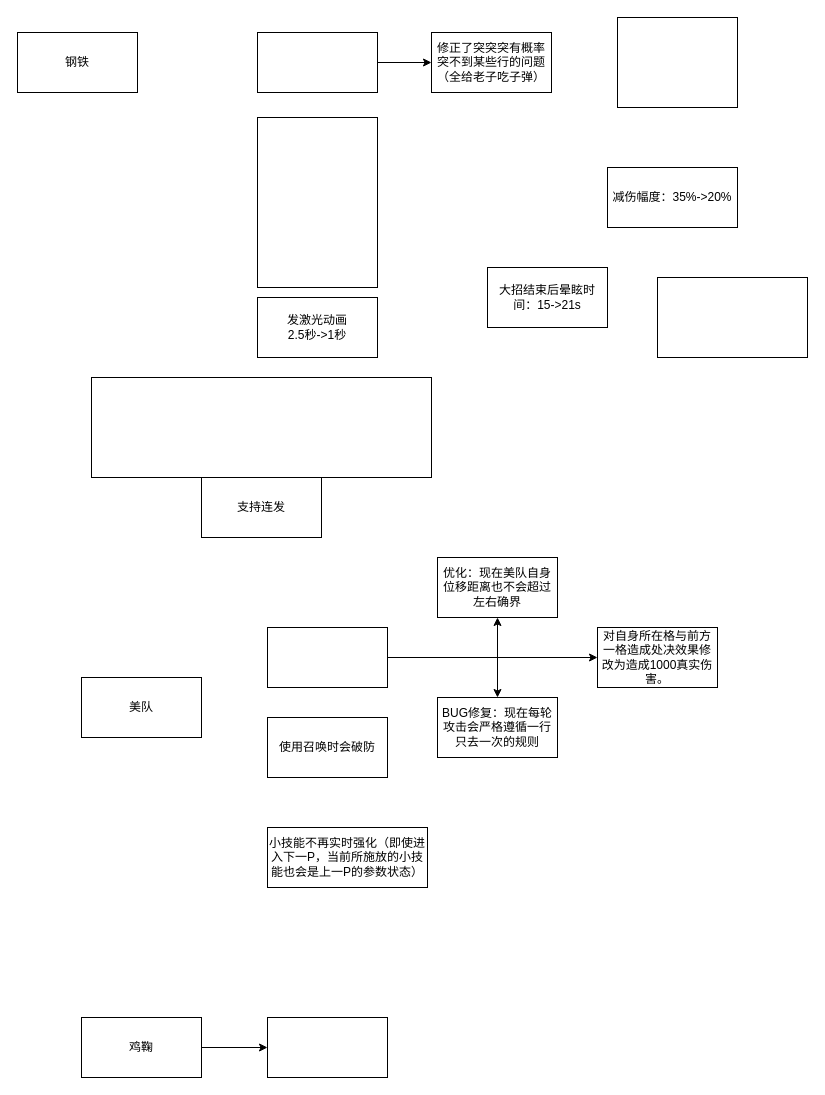
Some shapes in this 825 by 1095 pixel diagram are drawn without their labels. Each missing label, with the centre of its shape:
"P3总时间 18.167s->6.79s 因为结尾需要补正4秒停滞时间。" belongs at point (677, 62).
"一技能停滞时间：由6/4/2->5/4/3秒，并且机制改为露出本体，即破防" belongs at point (317, 62).
"开炮动画间隔 总时间3.083秒->1.083秒 伸展炮台前摇2秒（现在会在开炮前的读条播放，不算在总时间里） 每次开炮前摇0.5秒 收炮后摇0.583秒" belongs at point (261, 427).
"总DPS: 18.167*0.65=11.80 10.79*0.8=8.632, 和原来相比总受伤降低约25%" belongs at point (732, 317).
"支持反向推老鼠，并增加右边最远推进距离。（默认为右0.5列）" belongs at point (327, 657).
"晕眩时血线进入大招线则会立即起身" belongs at point (327, 1047).
"解体前摇 3.5秒->0.75秒 机甲组装动画 2.167秒->1.04秒 轻型机甲组装动画 2.5秒->1秒" belongs at point (317, 202).
